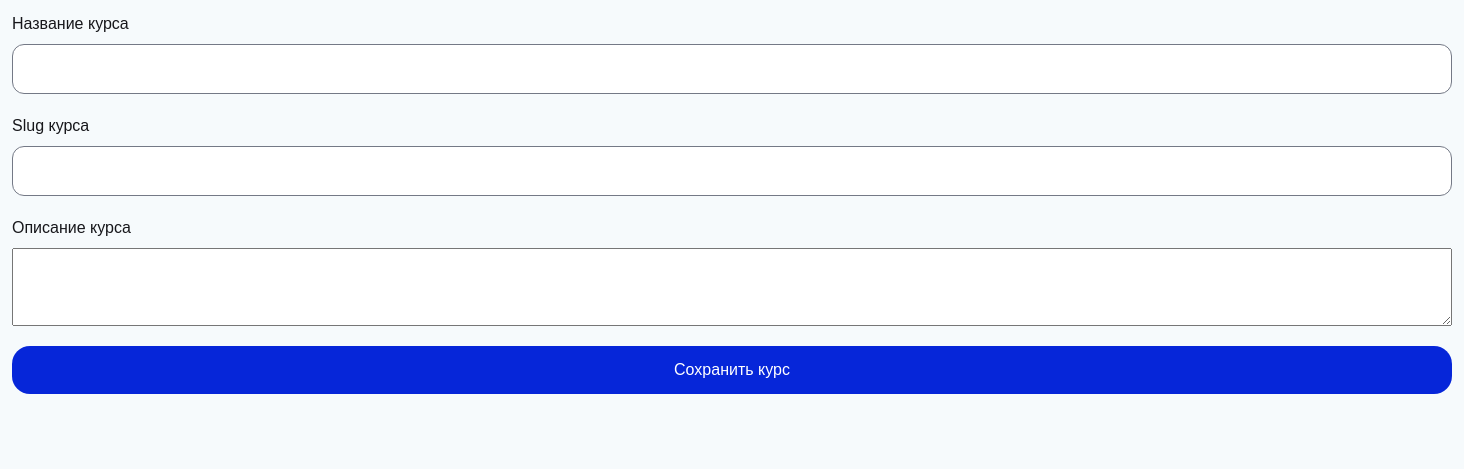
Test case: authoring forms › blocks invalid course data before submitting
Step 1. Click the button "Сохранить курс" → [732, 370], box [12,346,1452,394]
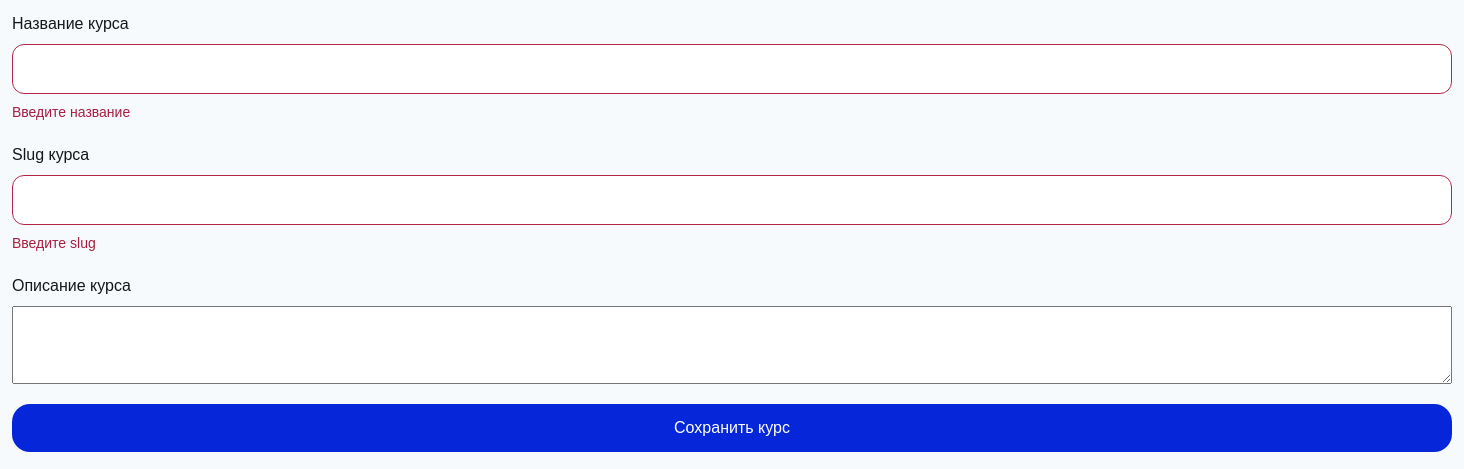
Check: the text "Введите название" is shown, box [12,104,130,120]
